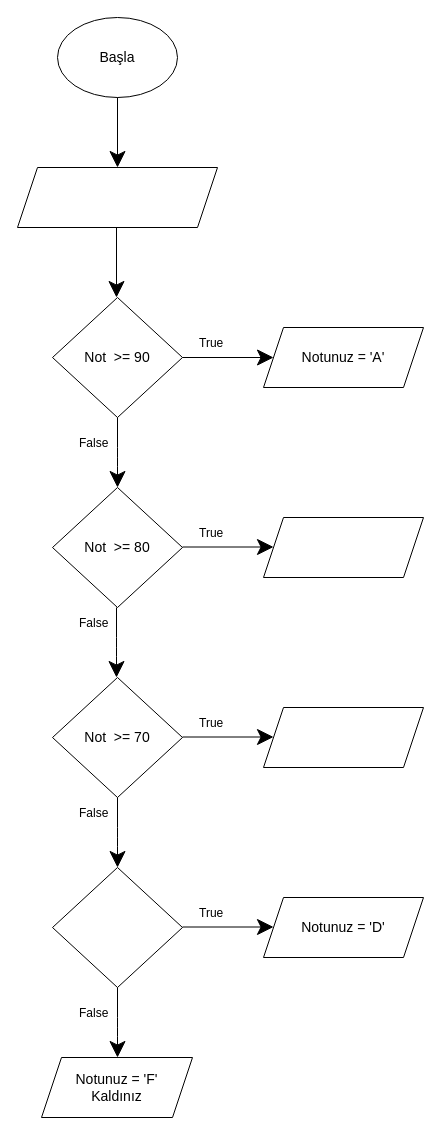
The diagram is 441 pixels wide and 1135 high, and some of its shapes have lost their labels. Here are the shapes that lost their labels. From the top down, the centre of each, then its label:
(117,197): "Notunuzu yazınız" yaz
(343,547): Notunuz = 'B'
(343,737): Notunuz = 'C'
(117,927): Not >= 60
